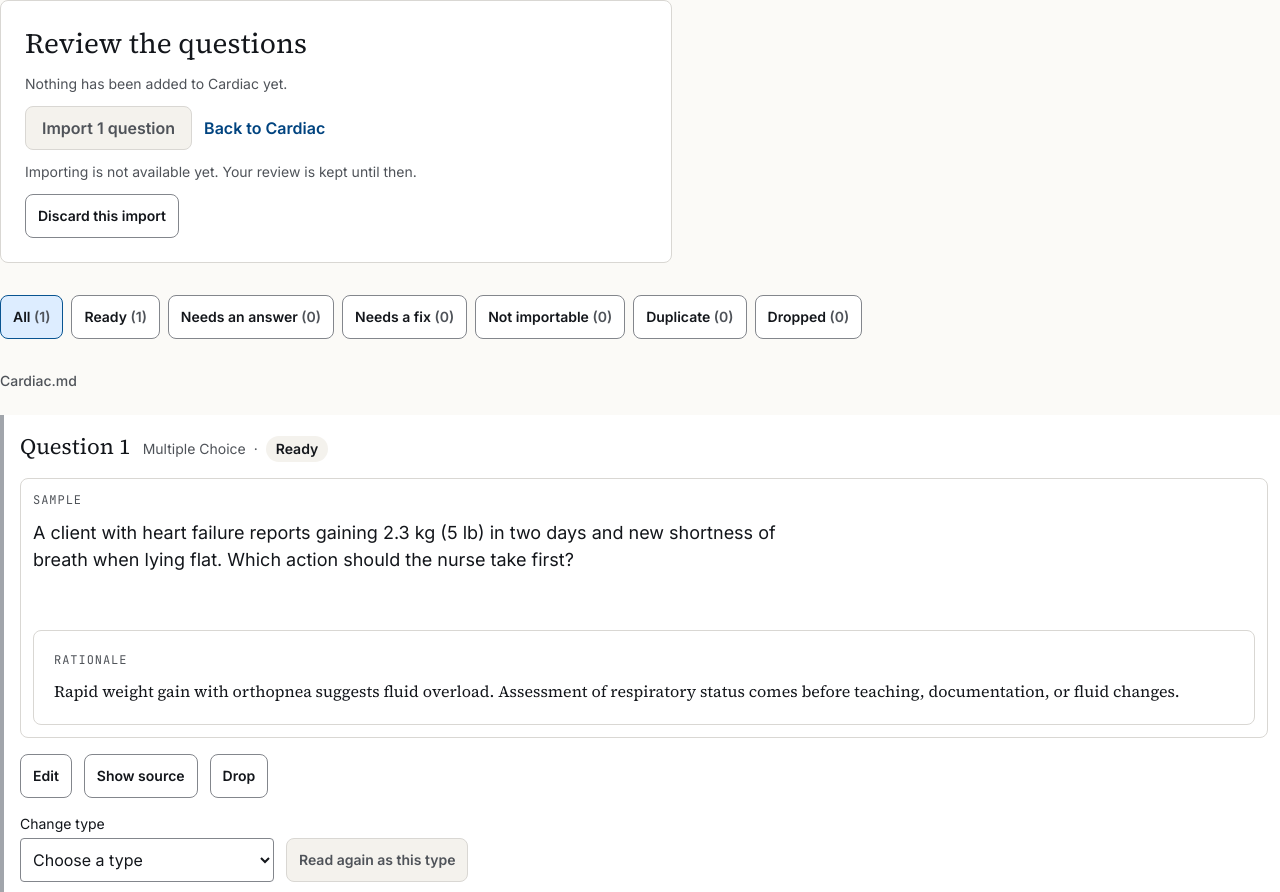
Test: AiImportReview (#346) › keeps the dialog open with the reason when a discard is refused
Click the button "Discard this import" at (102, 216), box x1=25 y1=194 x2=179 y2=238
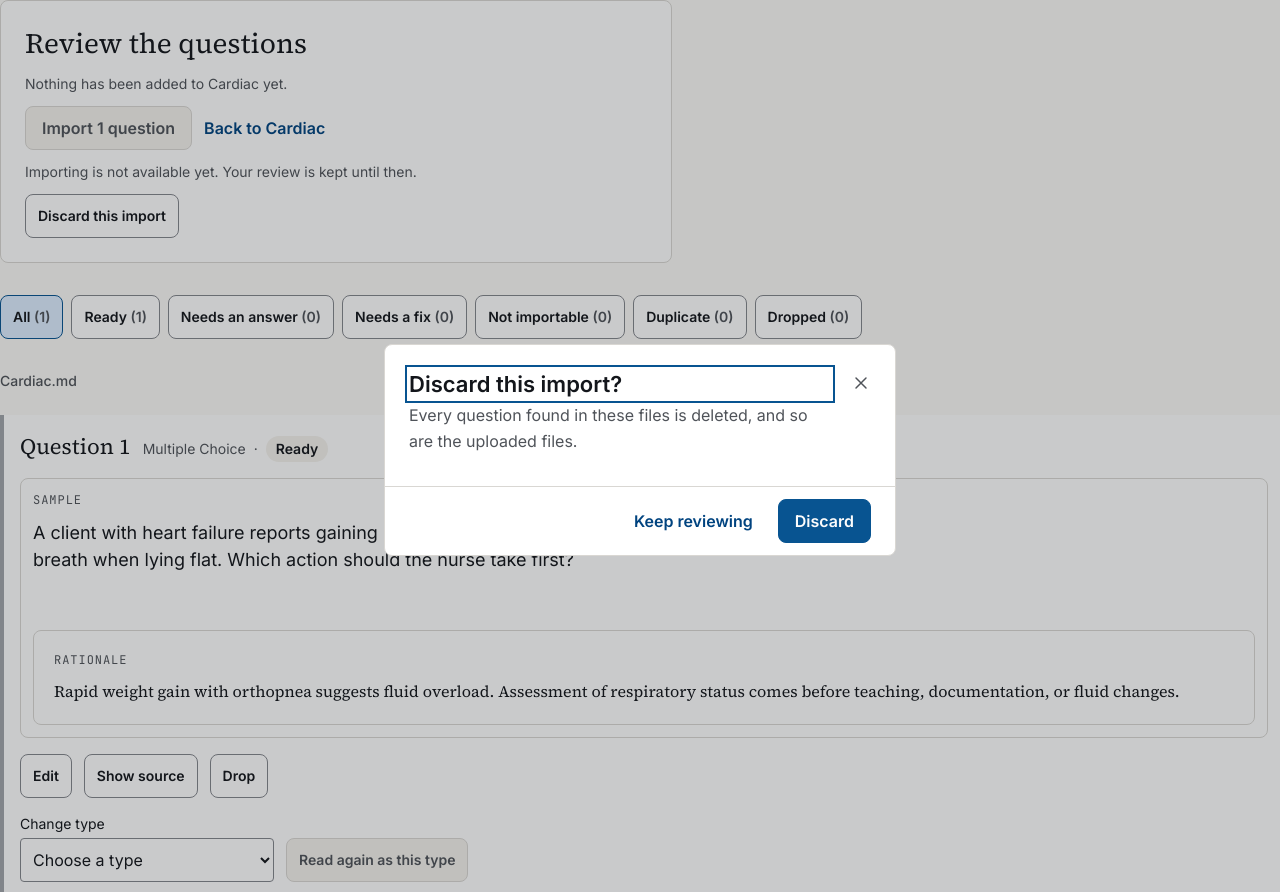
Click the button "Discard" at (824, 521), box x1=778 y1=499 x2=871 y2=543
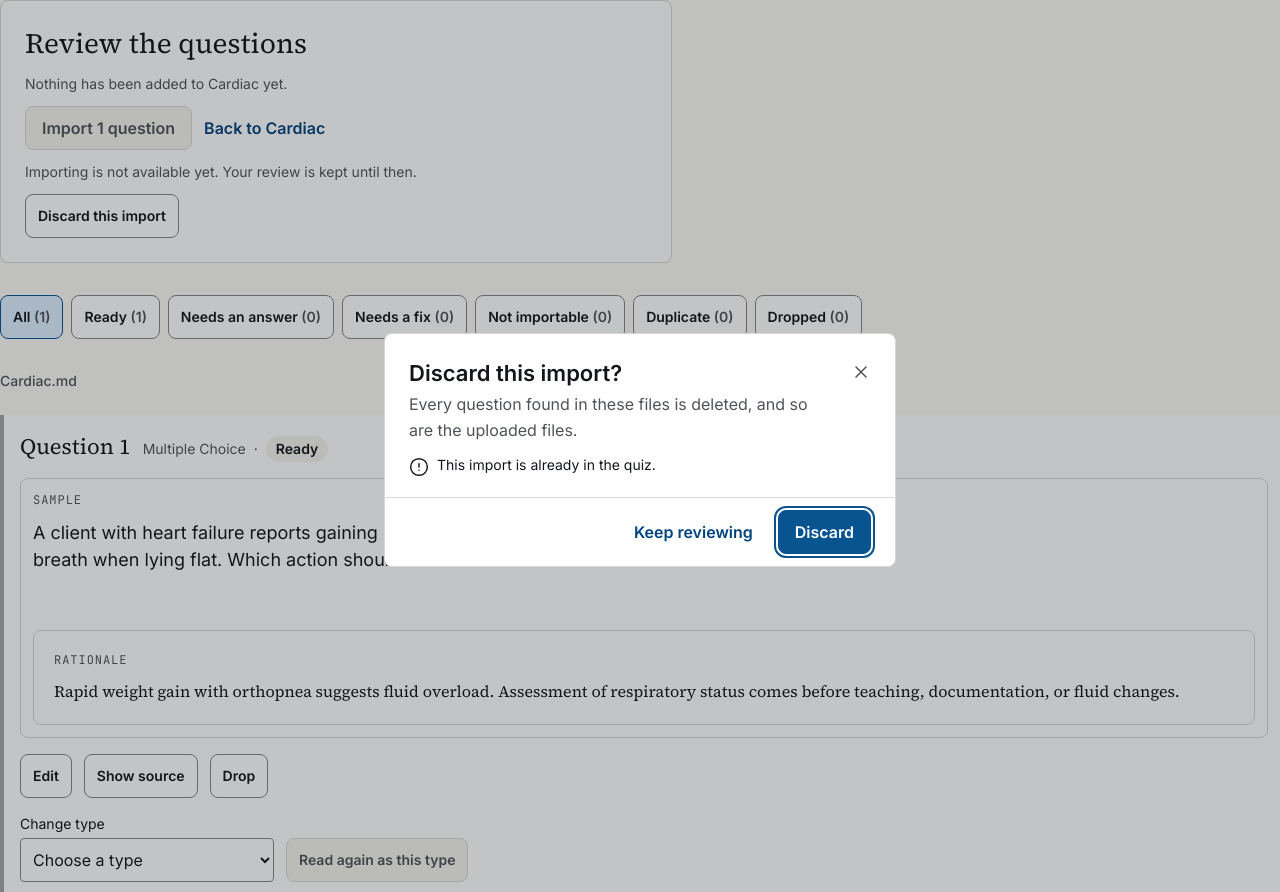
expect the text "This import is already in the quiz." is shown: met, box x1=437 y1=455 x2=656 y2=475
